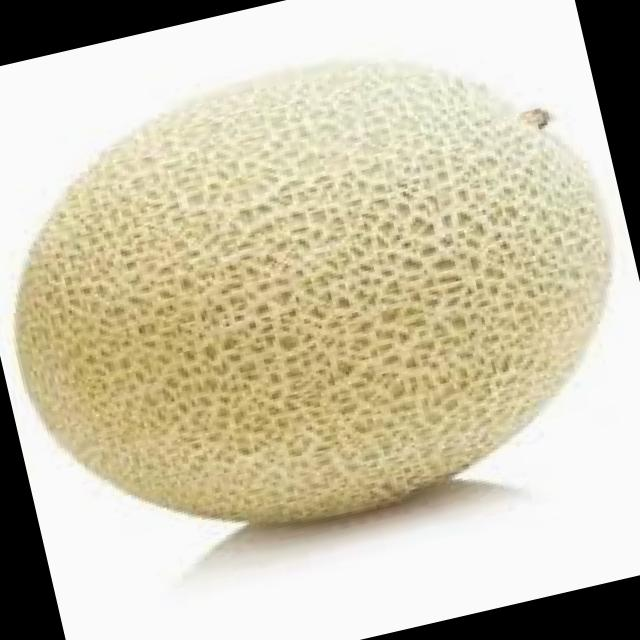cantaloupe: (0, 5, 640, 579)
